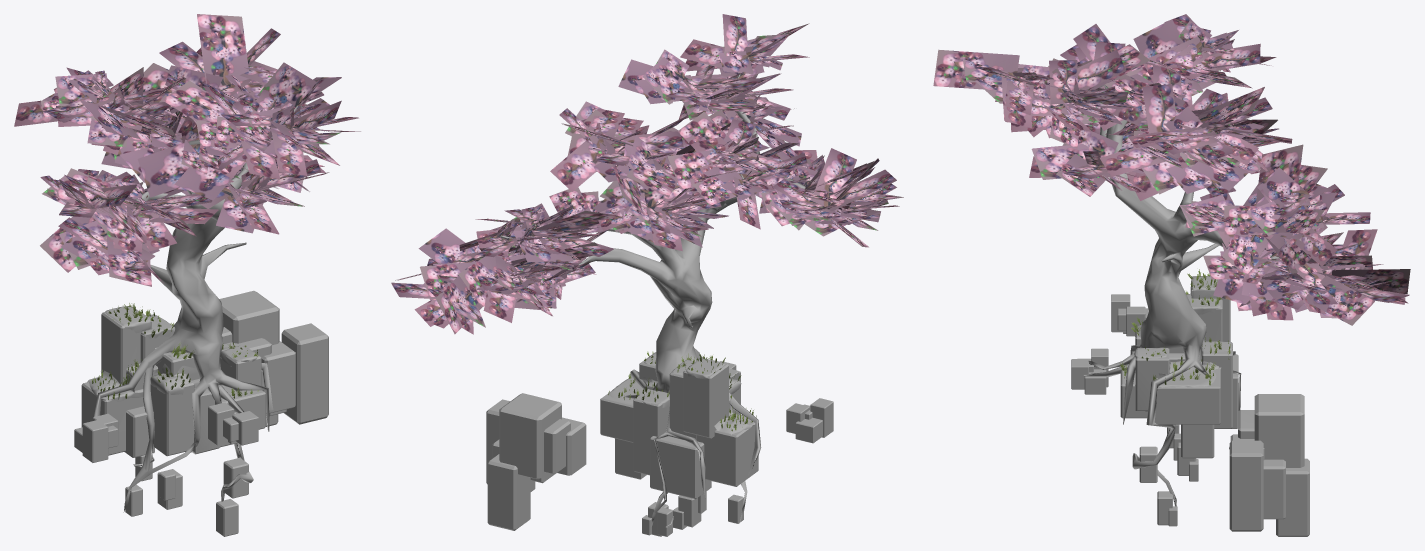
The model's file is StraightFloatingTree.fbx.
3 views of the same model, side by side, from view 1: azimuth 30°, elevation 25°; view 2: azimuth 150°, elevation 25°; view 3: azimuth 270°, elevation 25° (orthographic). The views are drawn at different scales.
Parts seen in each view (by area): view 1: StraightFlowers, StraightFloatingRock, StraightTrunk, StraightGrassPatch, StraightGrass; view 2: StraightFlowers, StraightFloatingRock, StraightTrunk, StraightGrassPatch, StraightGrass; view 3: StraightFlowers, StraightFloatingRock, StraightTrunk, StraightGrassPatch, StraightGrass.
Part boxes in pixels (box(x1,y1,x2,y2)): StraightFlowers: box(14, 14, 360, 286); StraightFloatingRock: box(74, 290, 328, 536); StraightTrunk: box(94, 88, 297, 512); StraightGrassPatch: box(87, 306, 262, 401); StraightGrass: box(92, 303, 258, 399); StraightFlowers: box(391, 14, 903, 334); StraightFloatingRock: box(486, 352, 833, 536); StraightTrunk: box(500, 57, 805, 527); StraightGrassPatch: box(609, 353, 755, 435); StraightGrass: box(608, 351, 756, 431); StraightFlowers: box(933, 14, 1410, 325); StraightFloatingRock: box(1071, 276, 1309, 536); StraightTrunk: box(1065, 47, 1321, 506); StraightGrassPatch: box(1134, 276, 1232, 387); StraightGrass: box(1120, 269, 1230, 385).
Size of the model in its own units: 1082 by 1261 by 1173.
